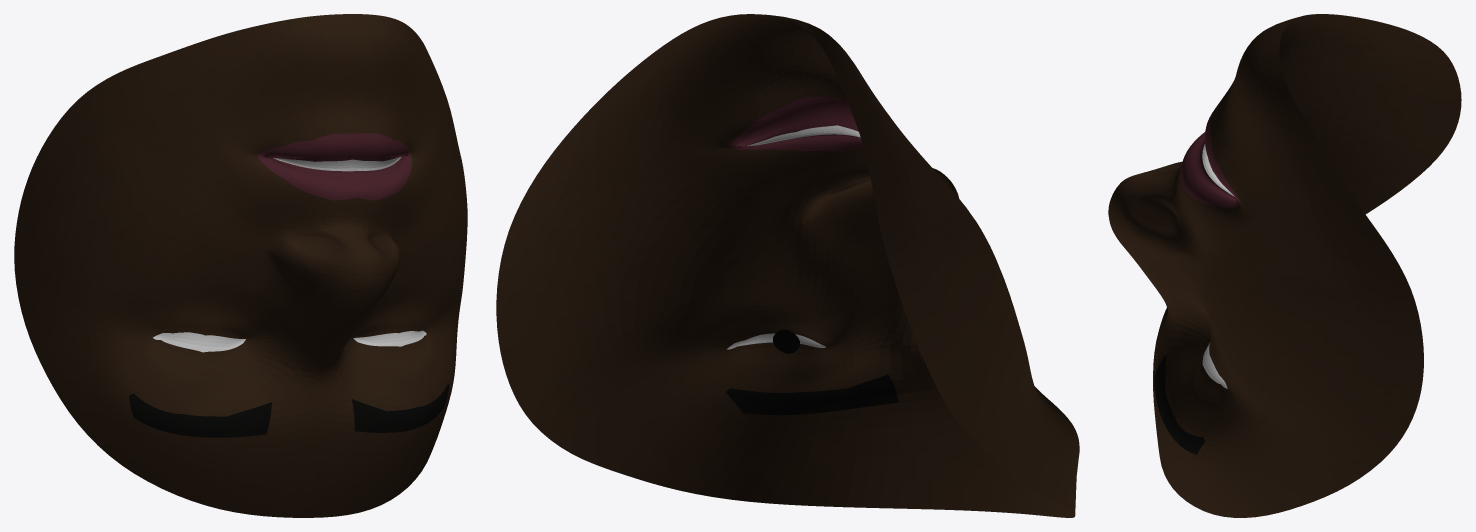
File: frame_00230.obj
The picture shows the model from 3 angles, left to right: view 1: azimuth 30°, elevation 25°; view 2: azimuth 150°, elevation 25°; view 3: azimuth 270°, elevation 25°; orthographic projection. The views are drawn at different scales.
Parts seen in each view (by area): view 1: face_mesh_subdivided; view 2: face_mesh_subdivided; view 3: face_mesh_subdivided.
Boxes of the visible parts, x1,y1,x2,y2 form: face_mesh_subdivided: (14,14,467,517); face_mesh_subdivided: (496,14,1079,517); face_mesh_subdivided: (1108,14,1461,517).
Size of the model in its own units: 0.5574 by 0.5706 by 0.3993.
